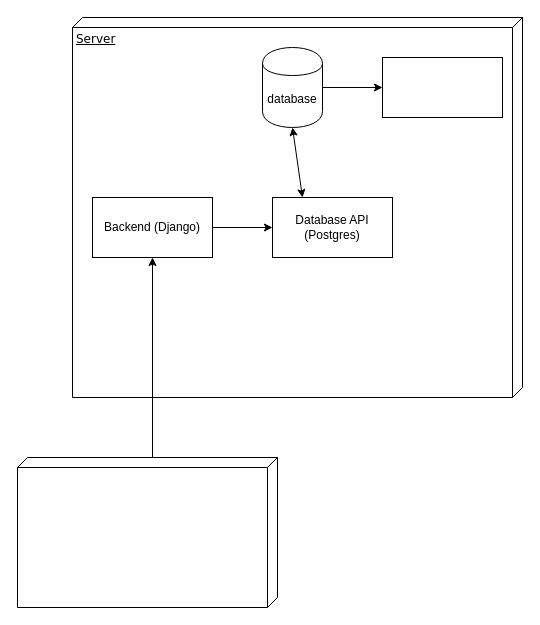
Image size: 540x625. Some labels were removed from this diagram. Here are the shapes that lost their labels. From the top down, the box of each, then its label:
(382, 56, 502, 118): Backup Cycle
(16, 456, 278, 608): Client
